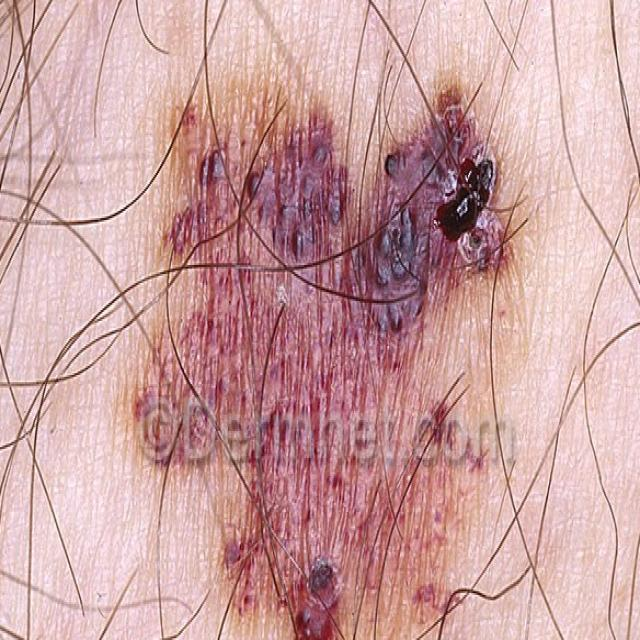Vascular Tumors: (127, 65, 524, 636)
